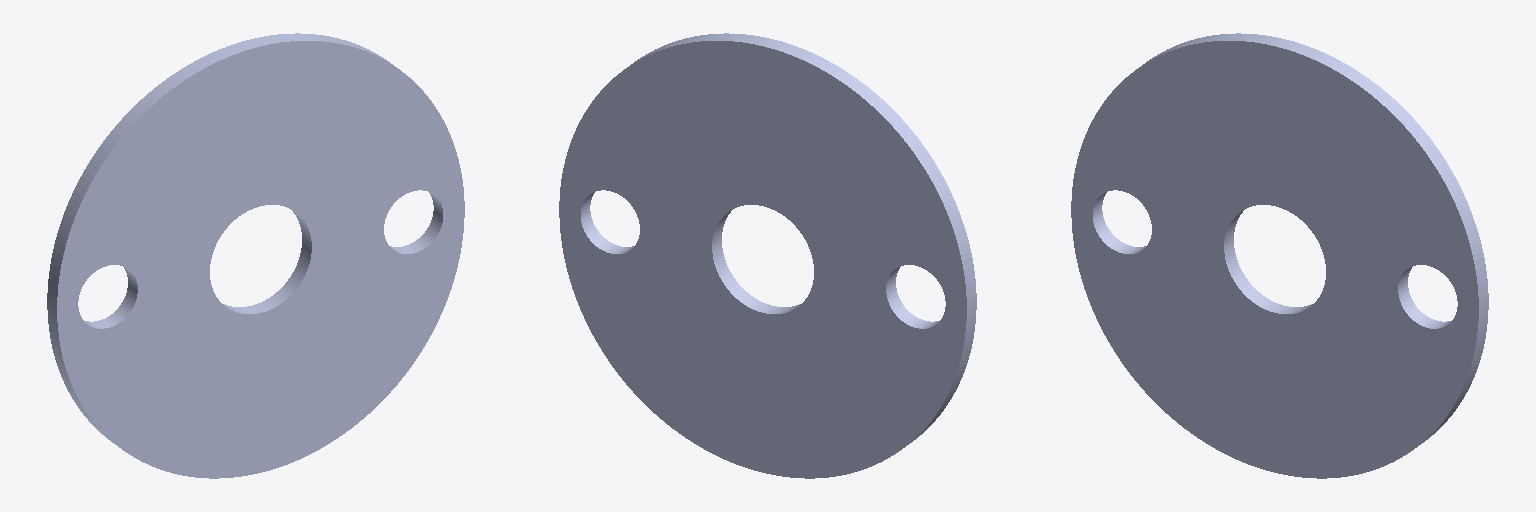
Rendered from Rueda_mecanismo_organo_terminal.obj.
The picture shows the model from 3 angles: view 1: azimuth 30°, elevation 25°; view 2: azimuth 150°, elevation 25°; view 3: azimuth 330°, elevation 25°; orthographic projection.
Visible parts, largest first — view 1: Cut_Extrude4; view 2: Cut_Extrude4; view 3: Cut_Extrude4.
Boxes of the visible parts, <box> form: Cut_Extrude4: <box>47,33,464,478</box>; Cut_Extrude4: <box>559,33,976,478</box>; Cut_Extrude4: <box>1071,33,1488,478</box>.
Size of the model in its own units: 9.45 by 9.45 by 0.3937.